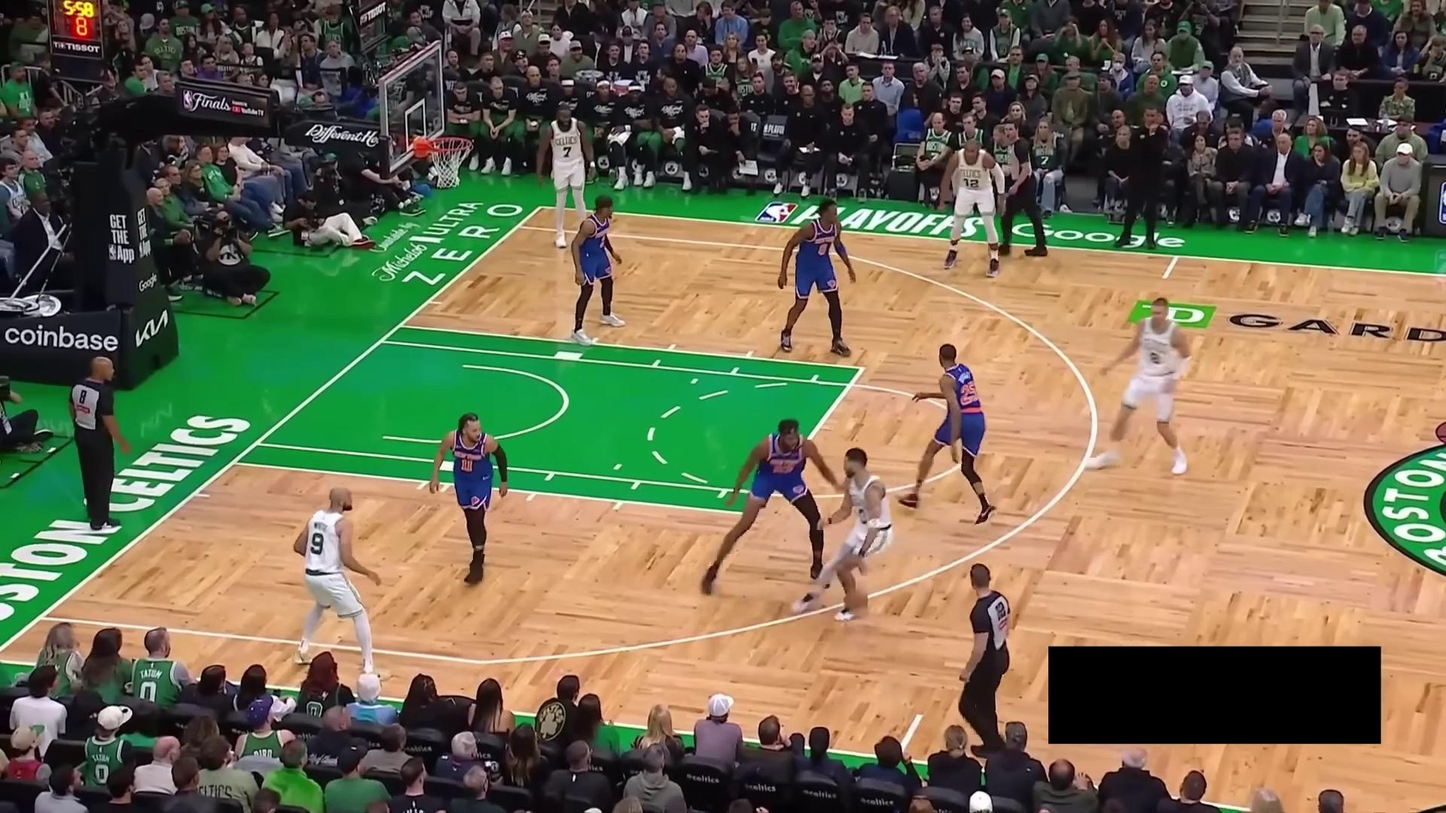ball: (842, 587, 873, 617)
number: (959, 379, 980, 407), (308, 531, 325, 559), (962, 176, 980, 188), (460, 458, 474, 473), (858, 506, 869, 525), (817, 242, 829, 256), (1149, 351, 1160, 366), (562, 145, 572, 158)
player: (696, 414, 849, 600), (1083, 296, 1197, 477), (895, 341, 1003, 526), (288, 483, 383, 682), (424, 412, 514, 587), (776, 197, 857, 361), (936, 136, 1009, 280), (535, 104, 596, 249), (569, 189, 623, 347)
player-in-possession: (786, 447, 896, 624)
referee: (954, 559, 1015, 756), (67, 352, 131, 530), (994, 118, 1050, 258)
rim: (420, 136, 474, 154)
